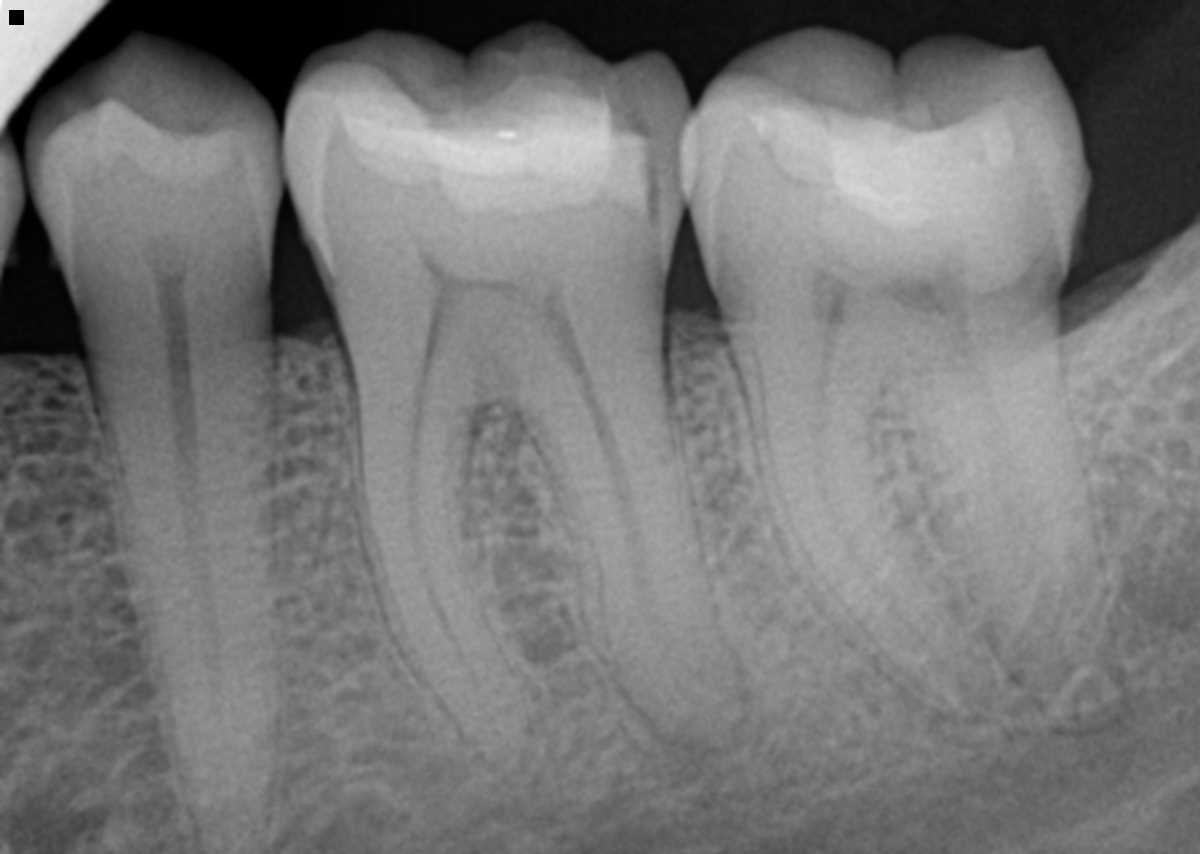Apical Lesion: (625, 648, 770, 782)
Distal Canal: (569, 357, 708, 699), (960, 344, 1060, 592)
Distal Root: (512, 337, 737, 744), (908, 322, 1128, 727)
Main Canal: (165, 342, 226, 755)
Main Root: (85, 336, 281, 854)
Mesial Canal: (814, 332, 982, 700), (406, 359, 517, 738)
Mesial Root: (729, 327, 1010, 713), (335, 345, 542, 762)
